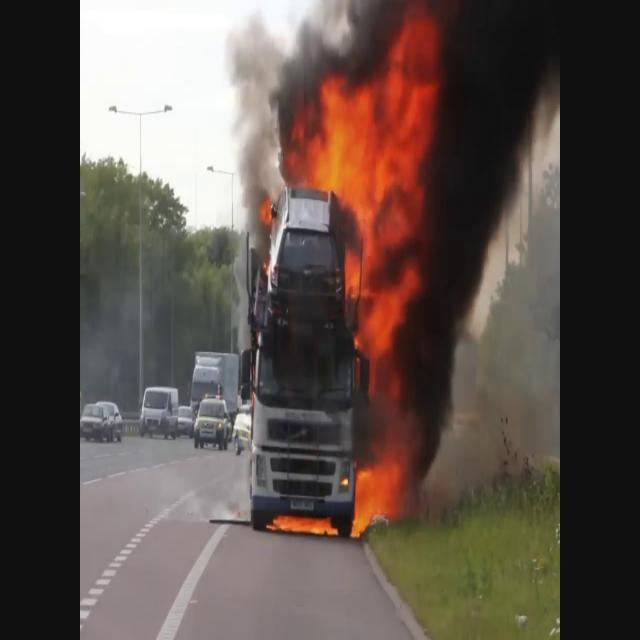Fire: (298, 30, 440, 373), (349, 442, 407, 540), (269, 511, 337, 538)
Smoke: (400, 1, 560, 477), (221, 1, 305, 229)
